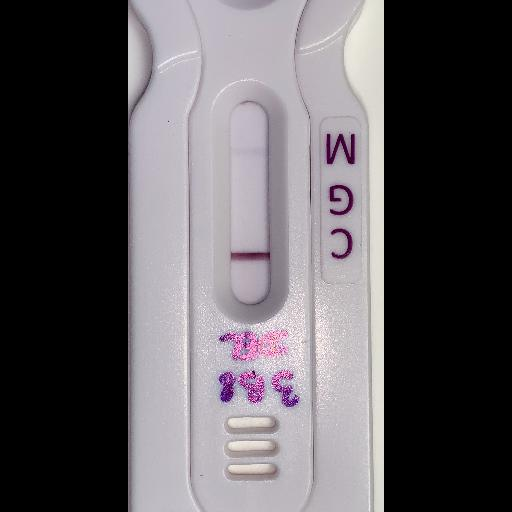Pos: (127, 0, 371, 511)
